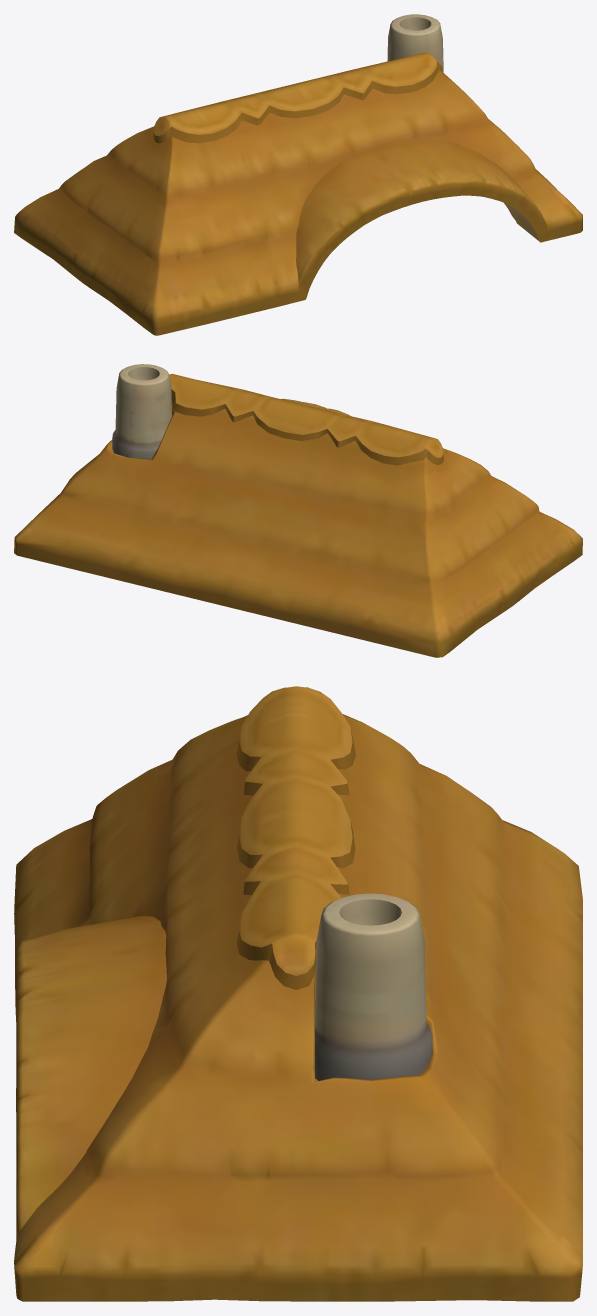
Rendered from roof-nb-thatched.glb.
3 renders of one model, top to bottom at view 1: azimuth 30°, elevation 25°; view 2: azimuth 150°, elevation 25°; view 3: azimuth 270°, elevation 25°, orthographic. The views are drawn at different scales.
Size of the model in its own units: 40.19 by 14.36 by 23.54.
Materials: 1 (1 with a texture image).
